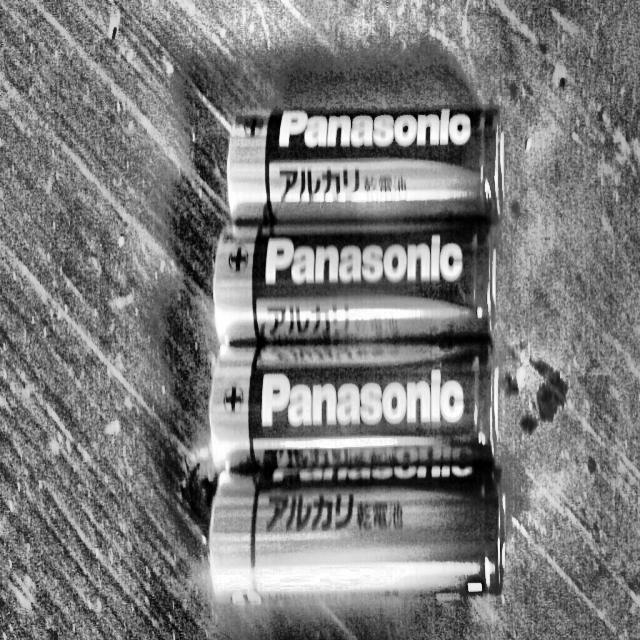drycell: (204, 223, 505, 356), (228, 100, 508, 220)
